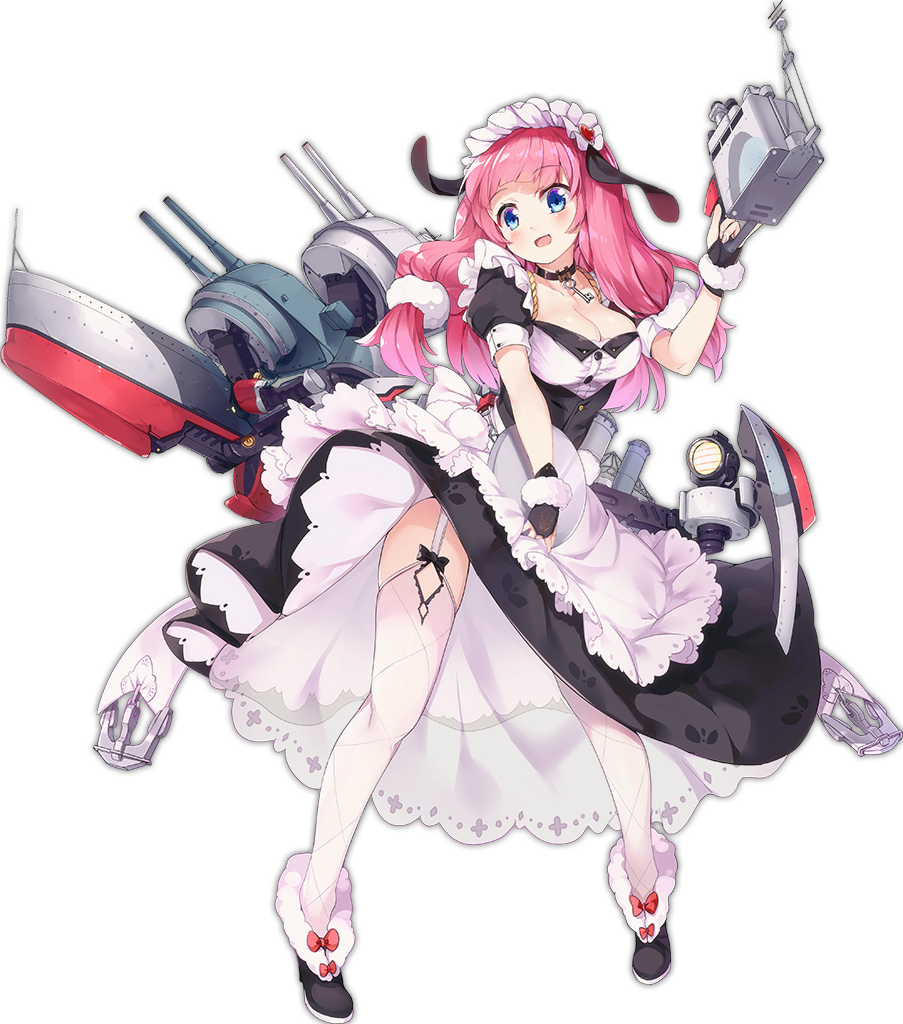person: (271, 105, 709, 796)
